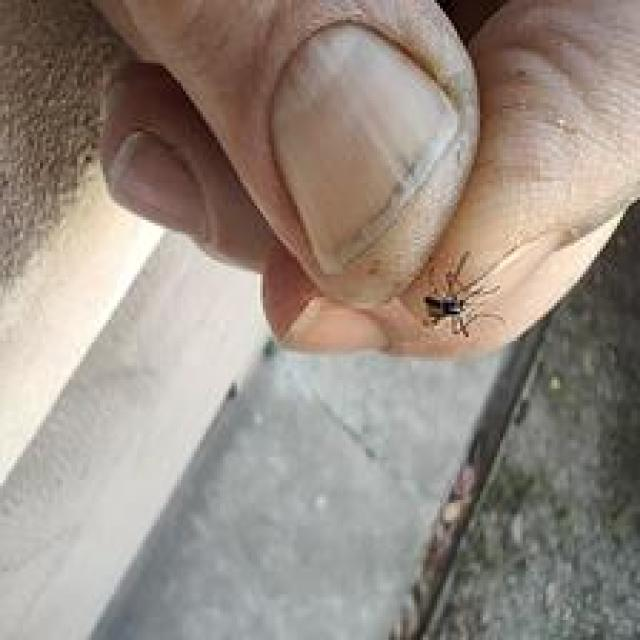Aedes albopictus: (420, 249, 506, 340)
